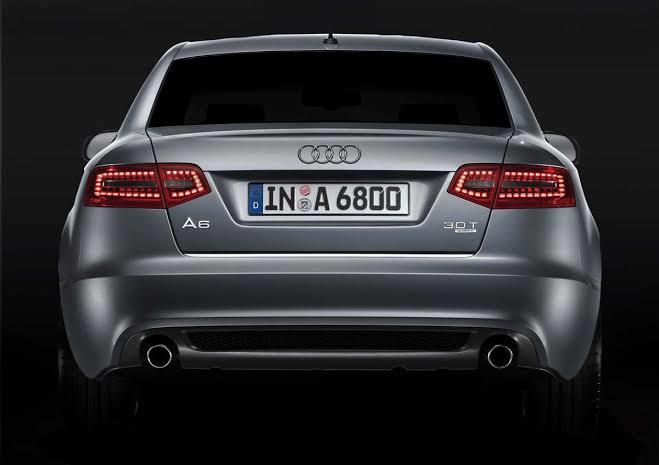audi: (59, 24, 609, 393)
